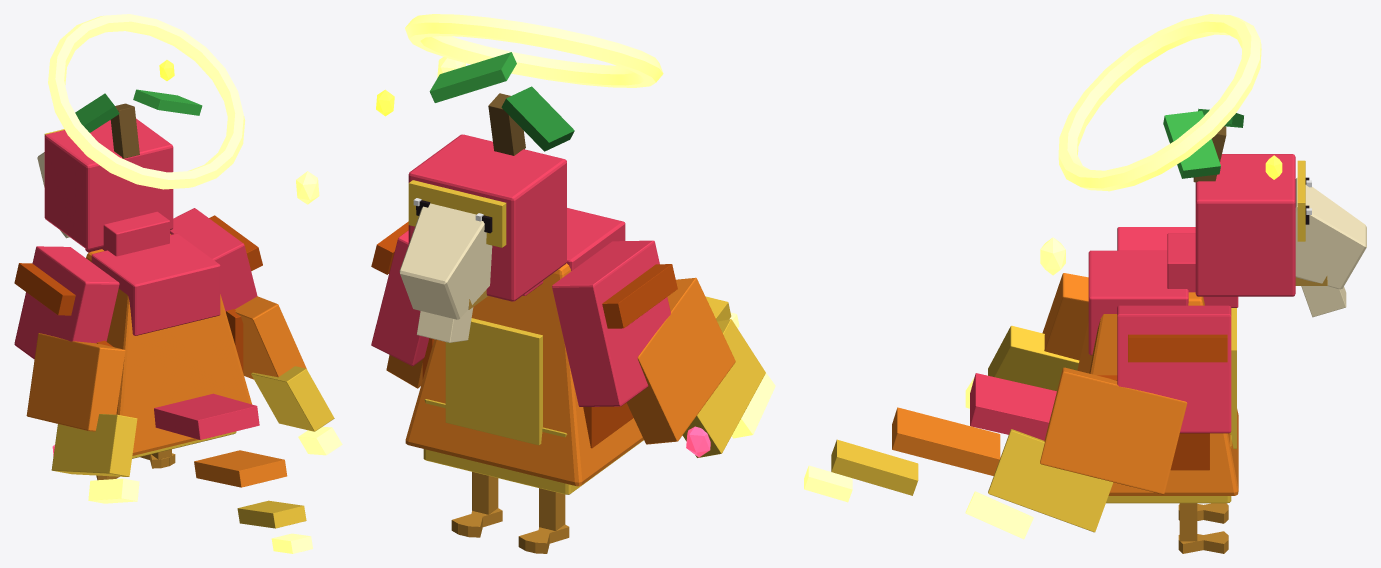
Rendered from mangowing.glb.
3 views of the same model, side by side, from view 1: azimuth 30°, elevation 25°; view 2: azimuth 150°, elevation 25°; view 3: azimuth 270°, elevation 25° (orthographic). The views are drawn at different scales.
Parts seen in each view (by area): view 1: body, wing.R, head, wing.L, tail, leg.FL; view 2: body, head, wing.R, wing.L, leg.FL, leg.FR, tail; view 3: wing.L, body, head, tail, wing.R, leg.FL.
Boxes of the visible parts, bbox=[...] form: body: bbox=[48, 14, 319, 458]; wing.R: bbox=[14, 246, 139, 503]; head: bbox=[37, 89, 202, 249]; wing.L: bbox=[170, 208, 342, 455]; tail: bbox=[154, 393, 312, 553]; leg.FL: bbox=[140, 449, 175, 468]; body: bbox=[376, 14, 710, 494]; head: bbox=[399, 52, 574, 342]; wing.R: bbox=[552, 240, 775, 457]; wing.L: bbox=[371, 221, 429, 388]; leg.FL: bbox=[451, 472, 502, 537]; leg.FR: bbox=[518, 488, 569, 553]; tail: bbox=[705, 296, 739, 328]; wing.L: bbox=[965, 305, 1231, 539]; body: bbox=[1040, 14, 1282, 503]; head: bbox=[1163, 108, 1366, 317]; tail: bbox=[804, 373, 1056, 502]; wing.R: bbox=[965, 227, 1195, 408]; leg.FL: bbox=[1178, 503, 1228, 553].
Size of the model in its own units: 0.5823 by 0.9769 by 1.01.
